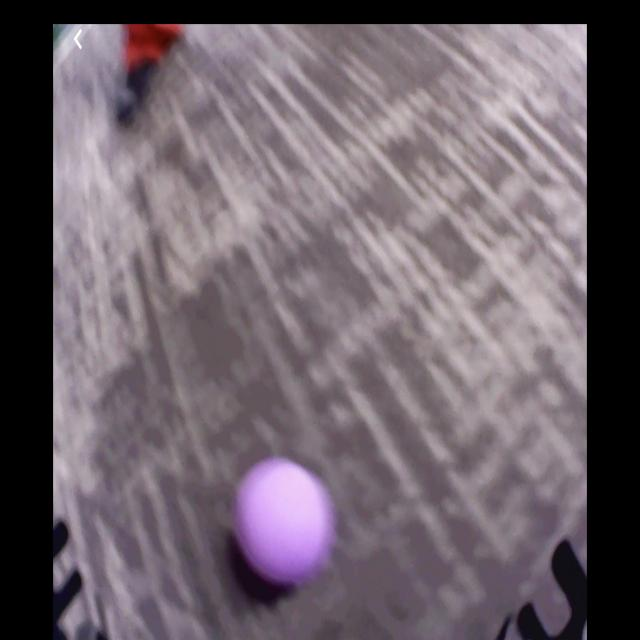ball: (236, 458, 334, 582)
